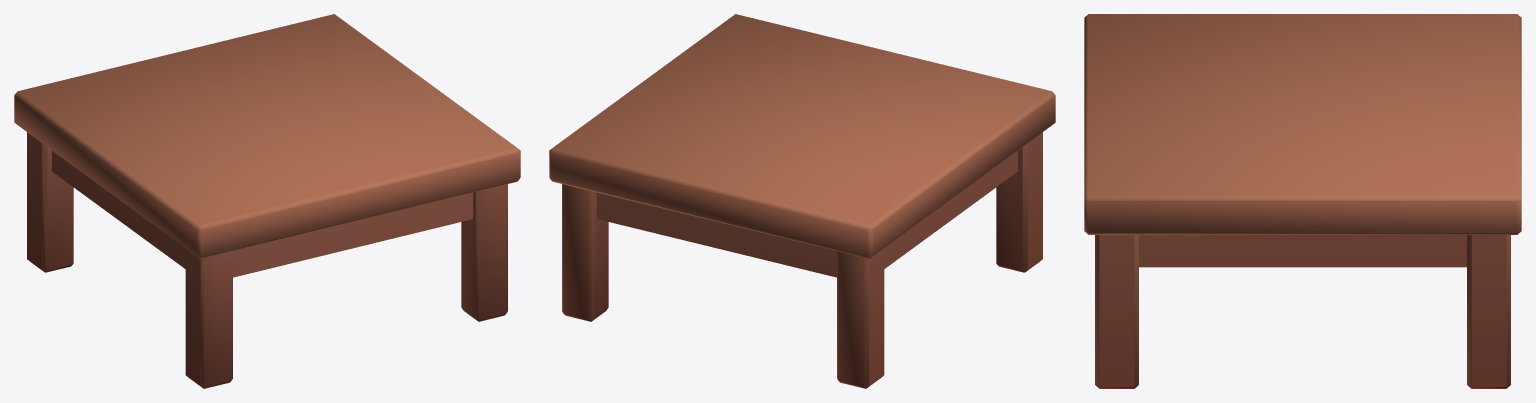
File: matbord.glb
The picture shows the model from 3 angles, left to right: view 1: azimuth 30°, elevation 25°; view 2: azimuth 150°, elevation 25°; view 3: azimuth 270°, elevation 25°; orthographic projection. The views are drawn at different scales.
Visible parts, largest first — view 1: table_medium; view 2: table_medium; view 3: table_medium.
Boxes of the visible parts, x1,y1,x2,y2 form: table_medium: (14,14,520,388); table_medium: (549,14,1055,388); table_medium: (1084,14,1521,388).
Bounding box in the file's own units: 2 × 1 × 2.
1 material, 1 textured.
